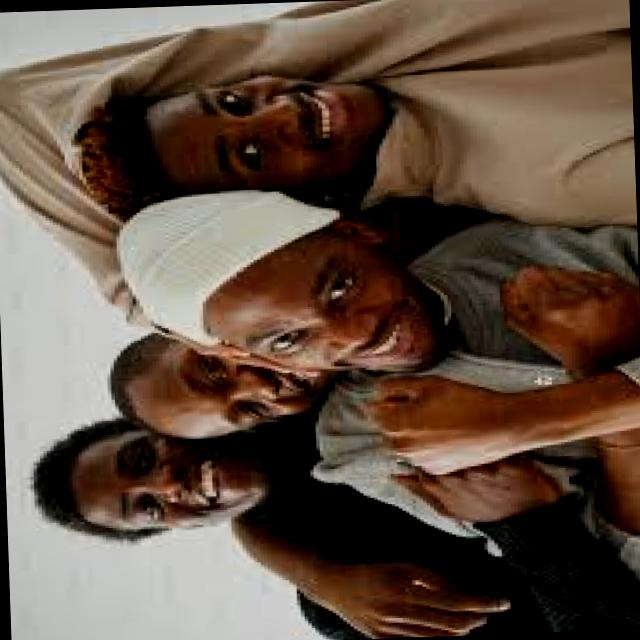Hand: (362, 369, 537, 477), (486, 256, 640, 373), (321, 551, 510, 640), (401, 452, 567, 524)
